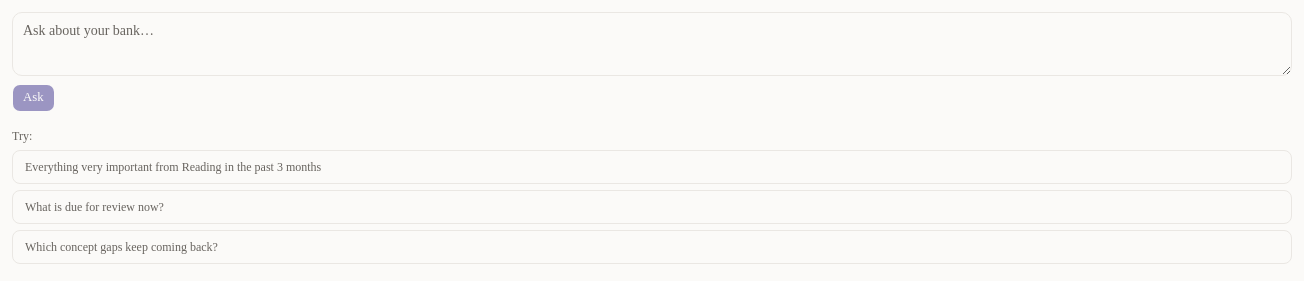
Test: Ask › shows the matching questions, not just the prose
Type "very important reading" into the text box labelled "Ask about your bank" at (652, 44), box top-left (12, 12), bottom-right (1292, 76)
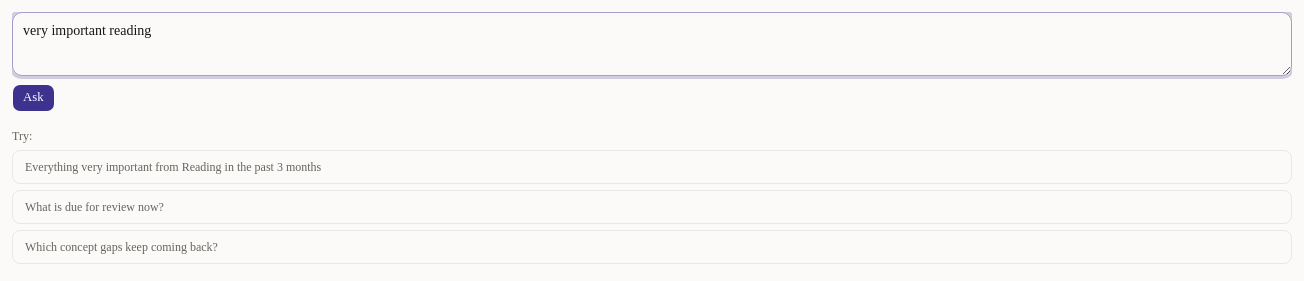
Click the button "Ask" at (33, 98), box top-left (12, 84), bottom-right (55, 112)
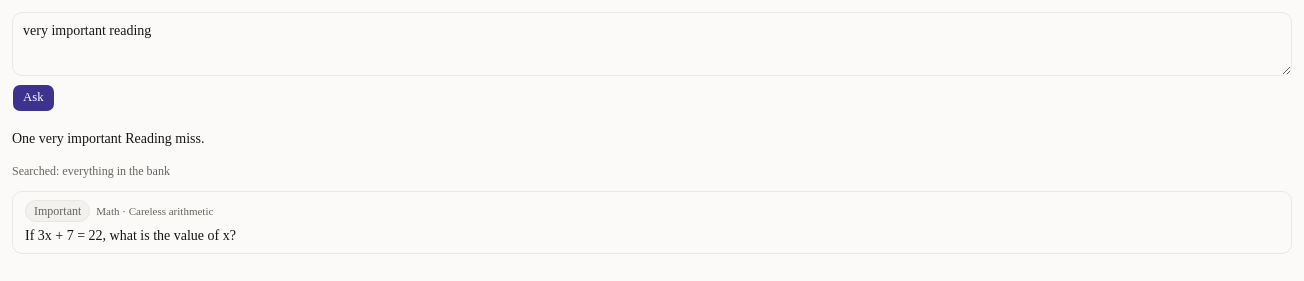
Now the text "One very important Reading miss." is shown, box top-left (12, 131), bottom-right (204, 146)
Now the text "If 3x + 7 = 22, what is the value of x?" is shown, box top-left (25, 228), bottom-right (236, 243)
